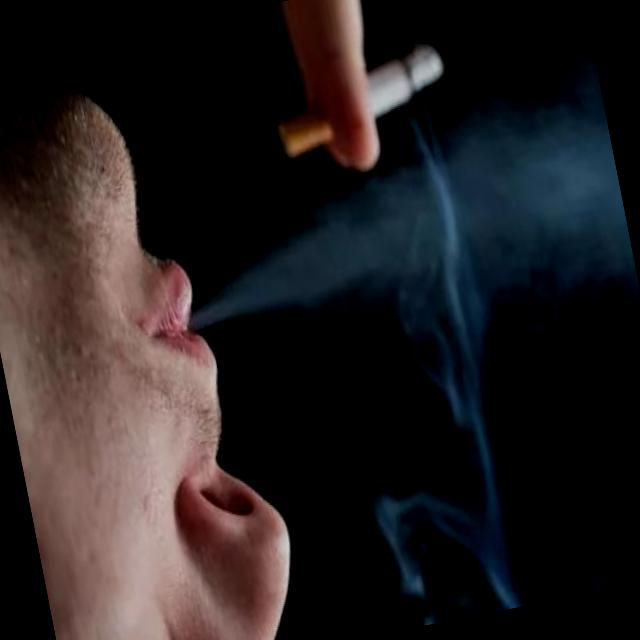smoke: (260, 41, 464, 170)
